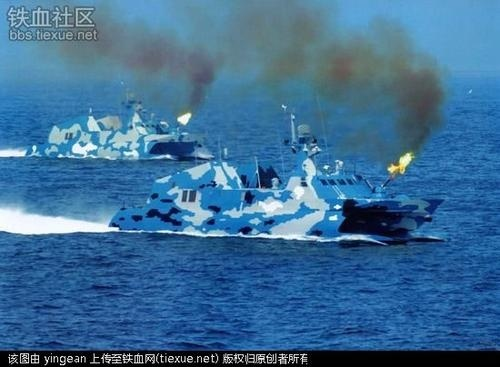fire: (387, 150, 415, 176)
